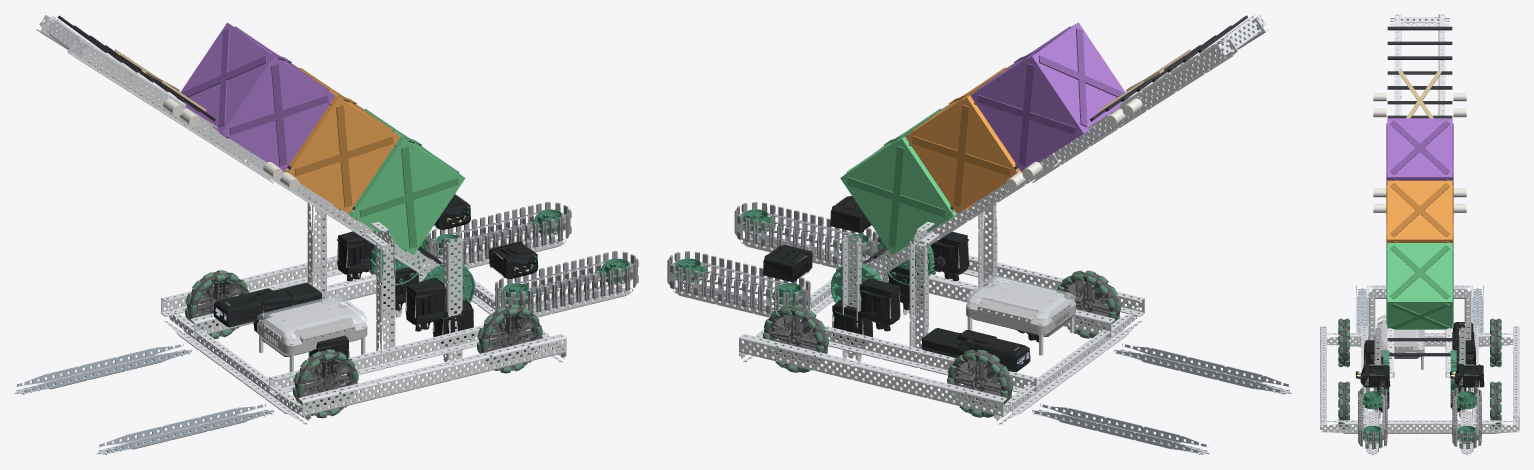
File: vex-tower-takeover.glb
3 views of the same model, side by side, from view 1: azimuth 30°, elevation 25°; view 2: azimuth 150°, elevation 25°; view 3: azimuth 270°, elevation 25° (orthographic). The views are drawn at different scales.
Visible parts, largest first — view 1: cchannel_35 (×16), cube (×3), motor (×7), omni4 (×3), brain, brain_cover, battery, gear84 (×2); view 2: cchannel_35 (×16), cube (×3), omni4 (×3), motor (×6), brain, brain_cover, battery, gear84; view 3: cube (×3), cchannel_35 (×20), zip_tie (×9), omni4 (×4), motor (×4), brain, tread_wheel (×2), brain_cover, band (×2), battery, gear84.
Boxes of the visible parts, x1,y1,x2,y2 form: cchannel_35 (×16): (14, 15, 632, 454); cube (×3): (177, 22, 465, 255); motor (×7): (253, 194, 538, 345); omni4 (×3): (184, 270, 542, 418); brain: (257, 301, 367, 356); brain_cover: (257, 295, 366, 340); battery: (213, 283, 322, 327); gear84 (×2): (370, 240, 475, 303); cchannel_35 (×16): (673, 15, 1291, 454); cube (×3): (840, 22, 1128, 254); omni4 (×3): (763, 270, 1120, 417); motor (×6): (763, 196, 968, 345); brain: (966, 282, 1075, 336); brain_cover: (966, 275, 1075, 320); battery: (921, 328, 1030, 372); gear84: (831, 262, 882, 303); cube (×3): (1386, 118, 1453, 329); cchannel_35 (×20): (1320, 14, 1519, 455); zip_tie (×9): (1387, 26, 1452, 356); omni4 (×4): (1338, 318, 1501, 429); motor (×4): (1355, 340, 1484, 387); brain: (1376, 319, 1424, 358); tread_wheel (×2): (1362, 391, 1476, 409); brain_cover: (1376, 314, 1424, 345); band (×2): (1398, 70, 1441, 118); battery: (1452, 322, 1474, 365); gear84: (1450, 350, 1456, 391).
Bounding box in the file's own units: 0.9237 × 0.6417 × 0.4153.
